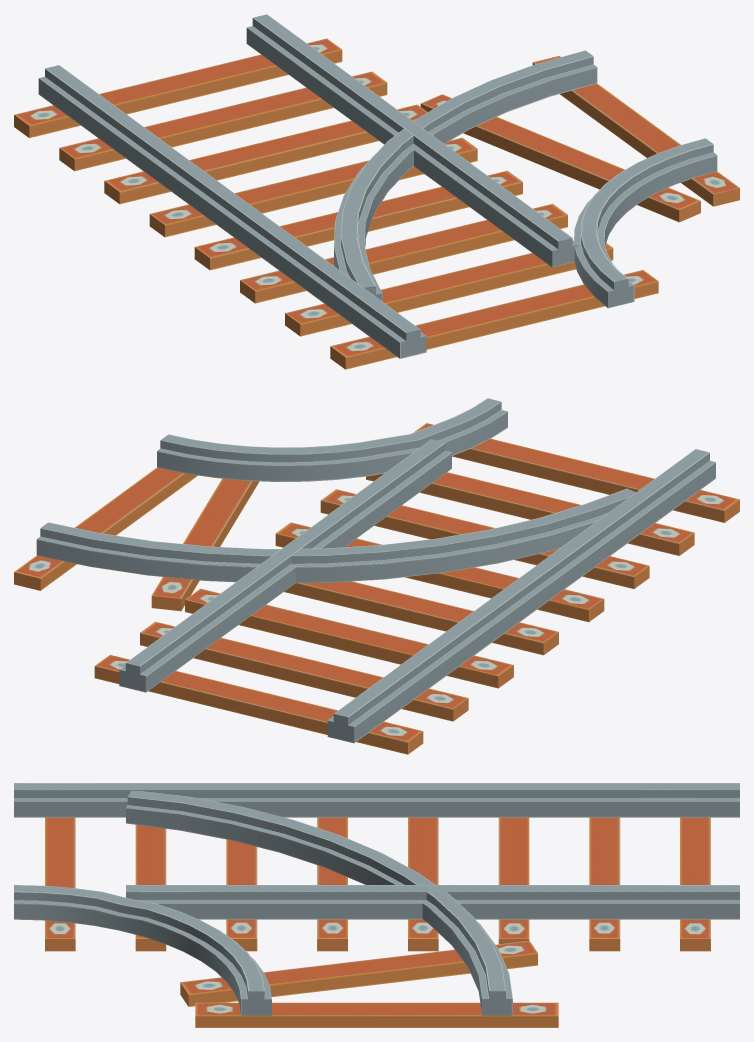
The model's file is rail_junction.glb.
3 views of the same model, one above another, from view 1: azimuth 30°, elevation 25°; view 2: azimuth 150°, elevation 25°; view 3: azimuth 270°, elevation 25° (orthographic).
Parts seen in each view (by area): view 1: Rail_T.001; view 2: Rail_T.001; view 3: Rail_T.001.
Part boxes in pixels (x1,y1,x2,y2): Rail_T.001: (14,14,739,369); Rail_T.001: (14,398,739,754); Rail_T.001: (14,783,739,1027).
Bounding box in the file's own units: 1.5 × 0.1125 × 2.
Materials: 1 (1 with a texture image).
